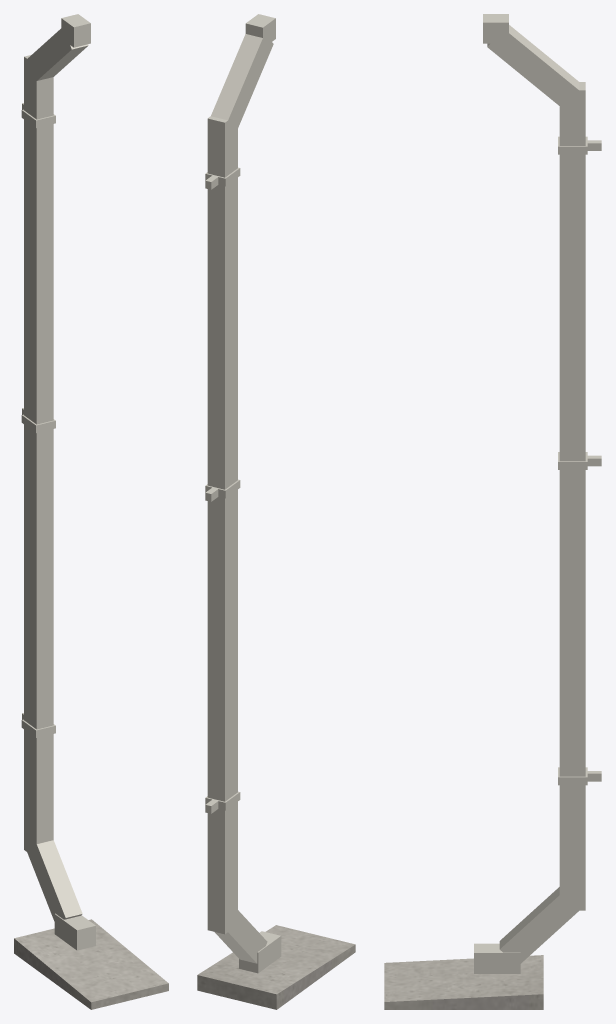
File: downspout.glb
3 views of the same model, side by side, from view 1: azimuth 30°, elevation 25°; view 2: azimuth 150°, elevation 25°; view 3: azimuth 270°, elevation 25° (orthographic). The views are drawn at different scales.
Visible parts, largest first — view 1: downspout_gutter, downspout_concrete; view 2: downspout_gutter, downspout_concrete; view 3: downspout_gutter, downspout_concrete.
Boxes of the visible parts, <box> form: downspout_gutter: <box>21,14,95,950</box>; downspout_concrete: <box>14,919,168,1009</box>; downspout_gutter: <box>205,14,281,973</box>; downspout_concrete: <box>197,925,355,1009</box>; downspout_gutter: <box>474,14,601,973</box>; downspout_concrete: <box>384,955,543,1009</box>.
Bounding box in the file's own units: 0.32 × 3.7 × 0.75.
2 materials, 1 textured.
